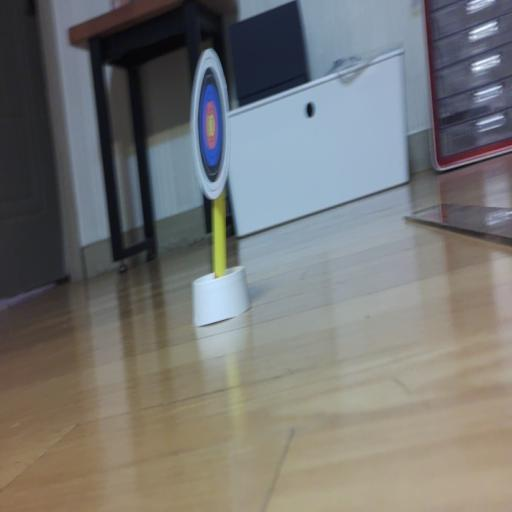target: (190, 48, 230, 199)
